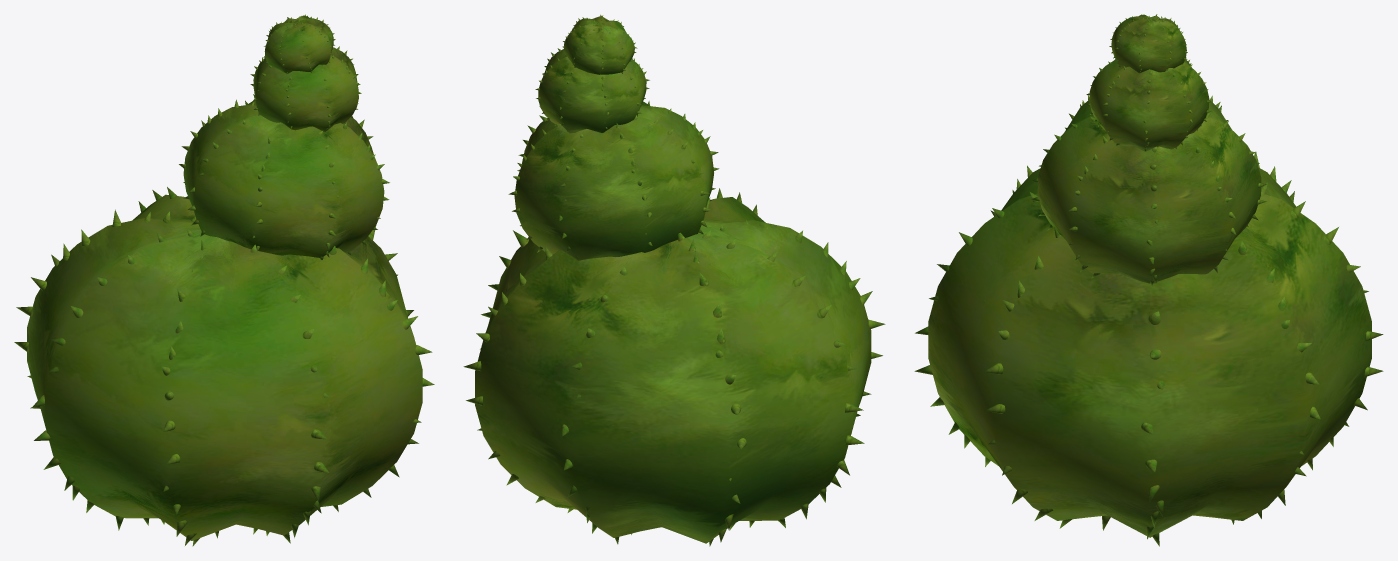
File: cactus_two.obj
3 renders of one model, left to right at view 1: azimuth 30°, elevation 25°; view 2: azimuth 150°, elevation 25°; view 3: azimuth 270°, elevation 25°, orthographic. The views are drawn at different scales.
Visible parts, largest first — view 1: pCone44; view 2: pCone44; view 3: pCone44.
Part boxes in pixels (box(x1,y1,x2,y2)): pCone44: box(14, 14, 434, 546); pCone44: box(463, 14, 885, 546); pCone44: box(914, 14, 1383, 546).
Size of the model in its own units: 1.9 by 2.27 by 1.83.
Materials: 2 (2 with a texture image).
